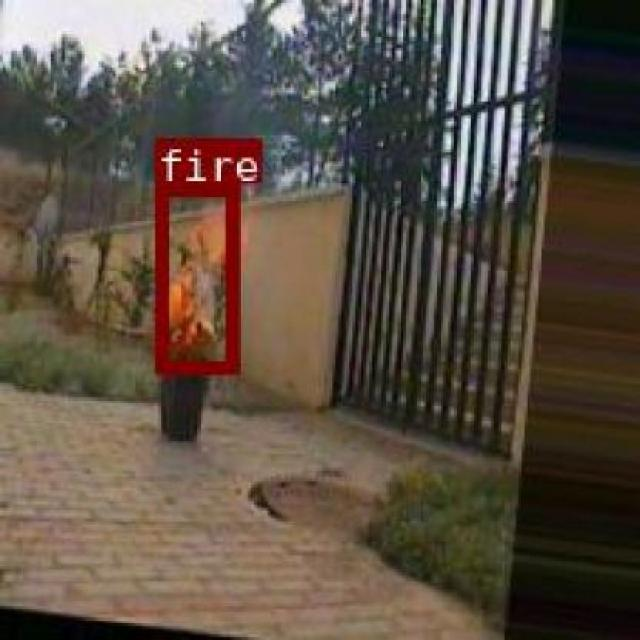Fire: (154, 180, 236, 372)
